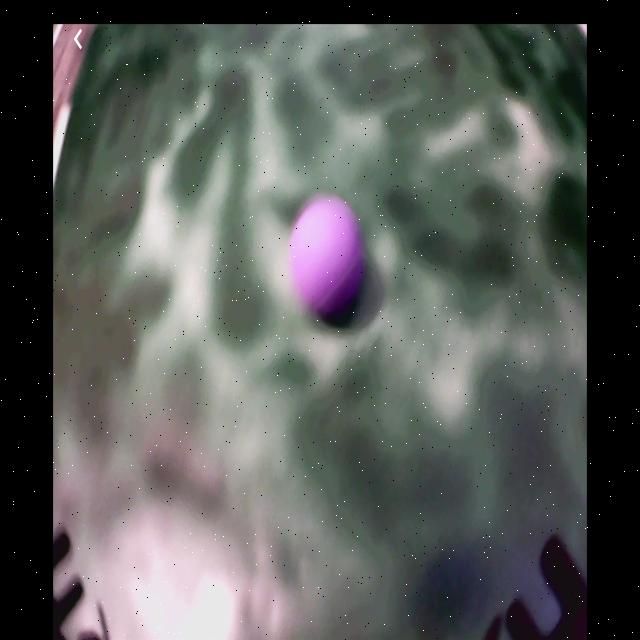ball: (289, 193, 366, 324)
